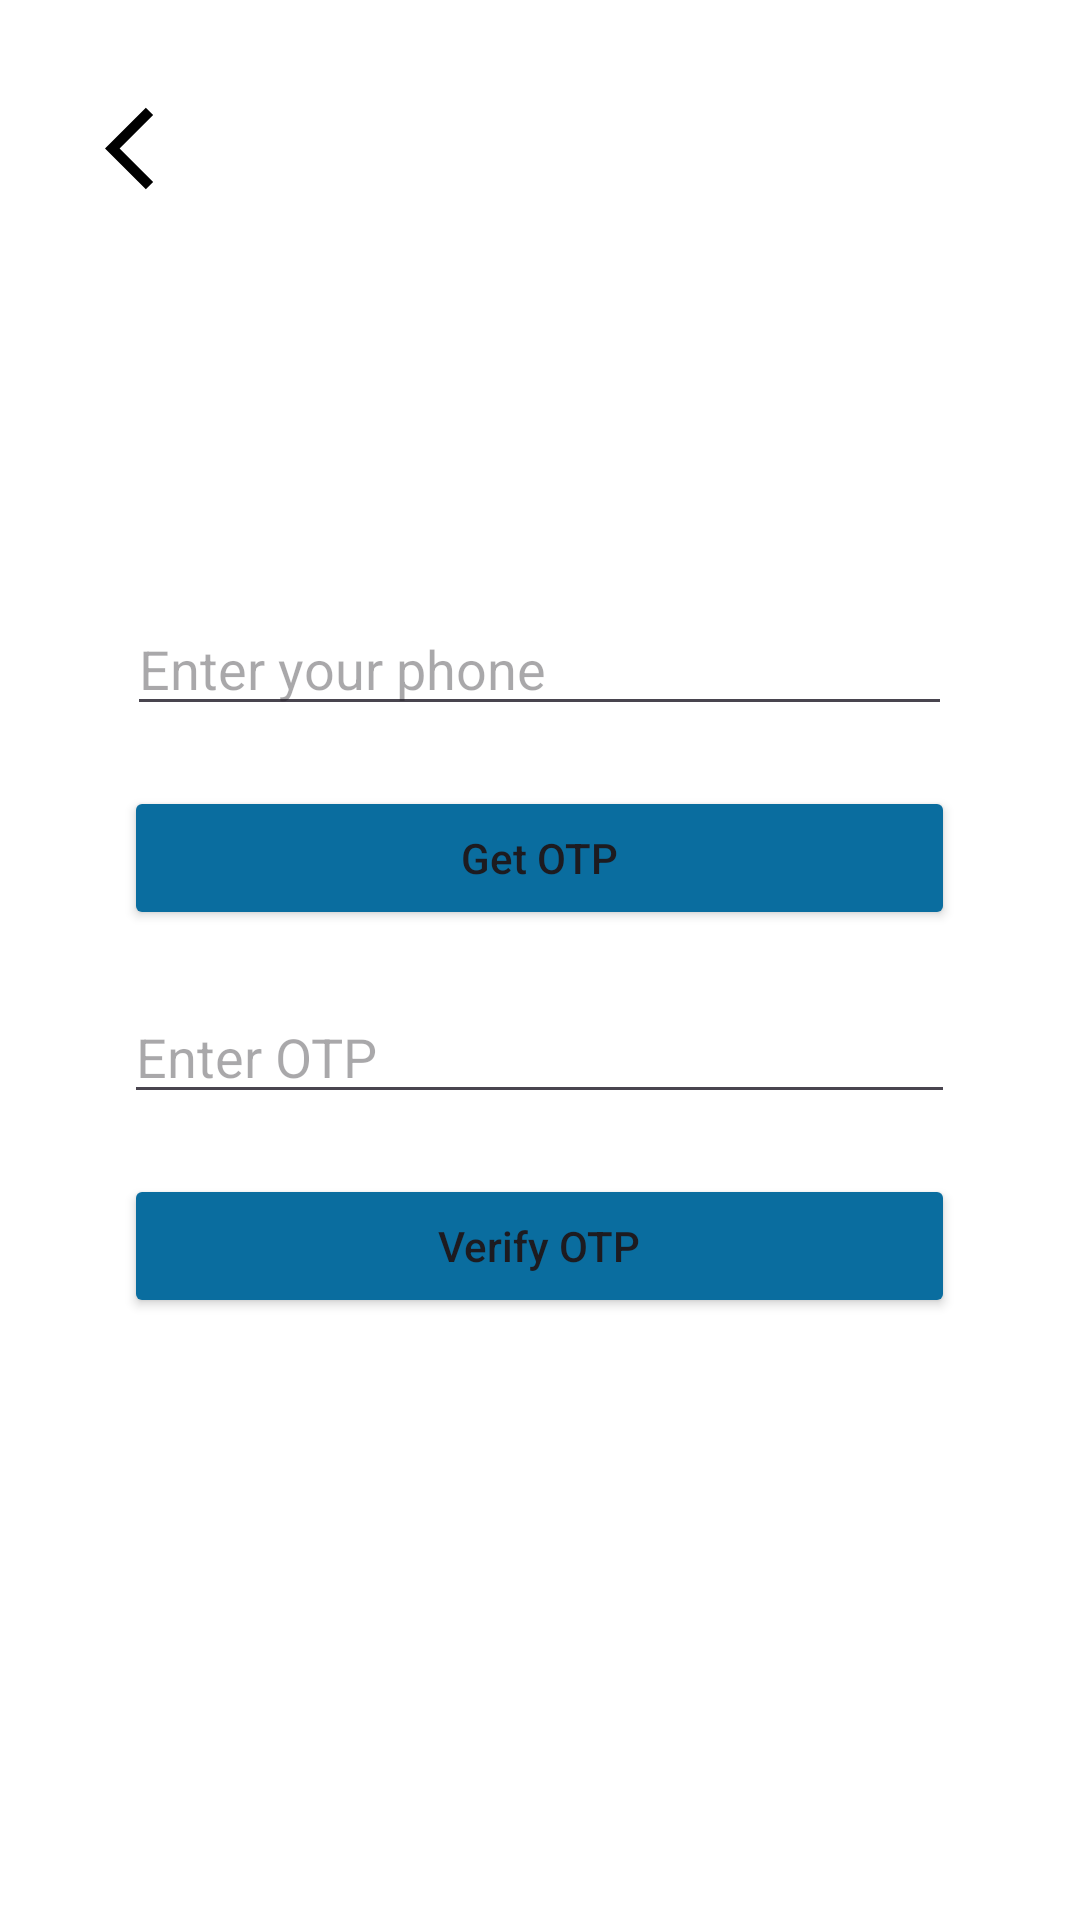

Screen size 1080 x 1920. Icon name, then its box in pixels as (x1, y1, x2, y2):
arrow back: (105, 108, 153, 189)
